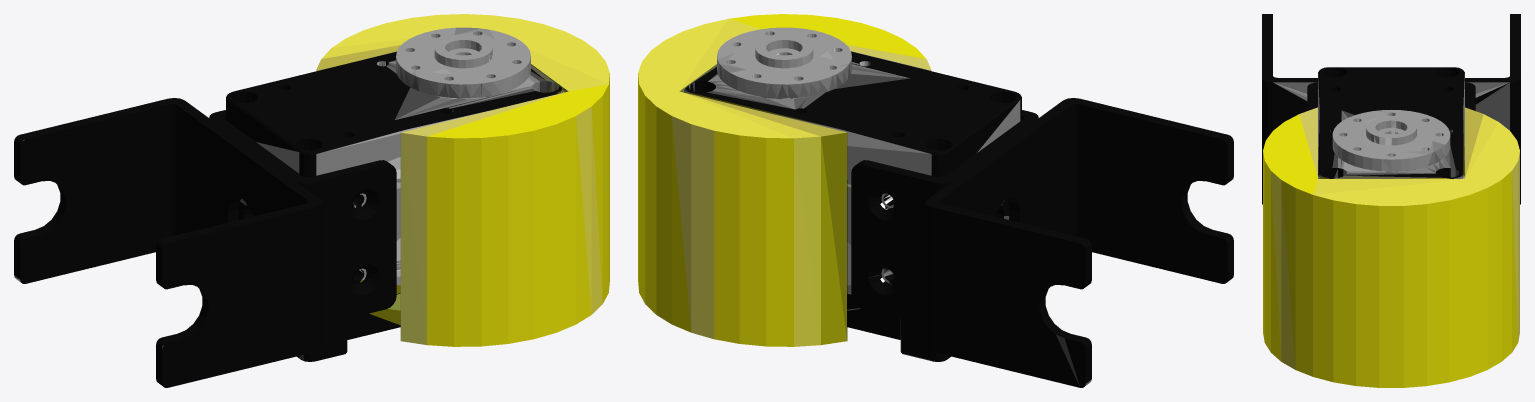
File: HansCuteLink5.dae
3 views of the same model, side by side, from view 1: azimuth 30°, elevation 25°; view 2: azimuth 150°, elevation 25°; view 3: azimuth 270°, elevation 25° (orthographic). The views are drawn at different scales.
Parts seen in each view (by area): view 1: HansCuteLink5; view 2: HansCuteLink5; view 3: HansCuteLink5.
Boxes of the visible parts, box(x1,y1,x2,y2) form: HansCuteLink5: box(14, 14, 609, 387); HansCuteLink5: box(638, 14, 1233, 387); HansCuteLink5: box(1262, 14, 1520, 387).
Bounding box in the file's own units: 0.0944 × 0.0483 × 0.0458.
